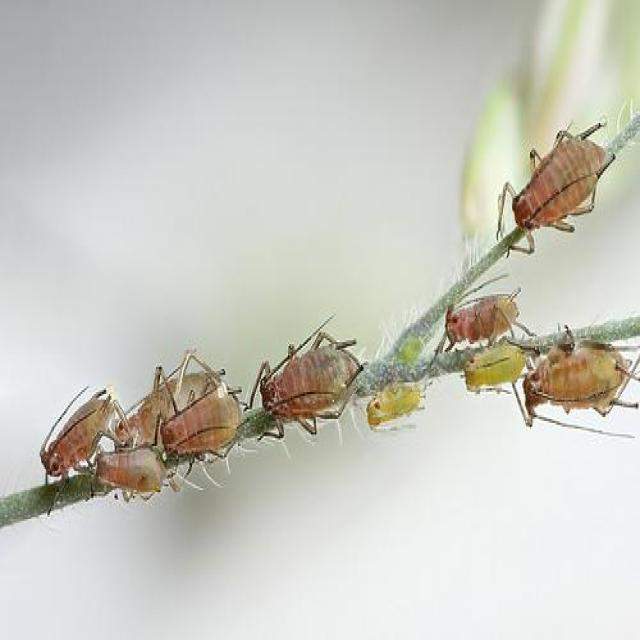aphid: (490, 80, 603, 272), (245, 312, 371, 438), (526, 328, 636, 462), (34, 382, 138, 506), (436, 267, 536, 356), (156, 380, 250, 470), (81, 433, 180, 505), (457, 328, 534, 400), (366, 370, 436, 436)
